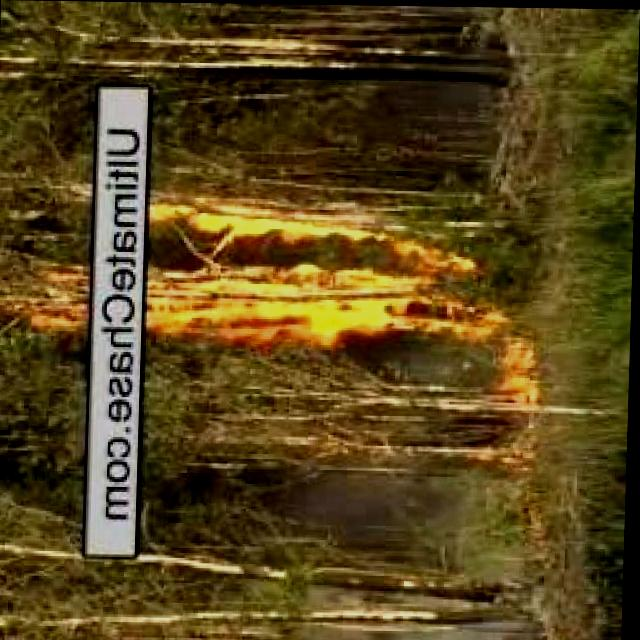Fire: (148, 191, 501, 361), (9, 260, 96, 334), (510, 334, 540, 406)
